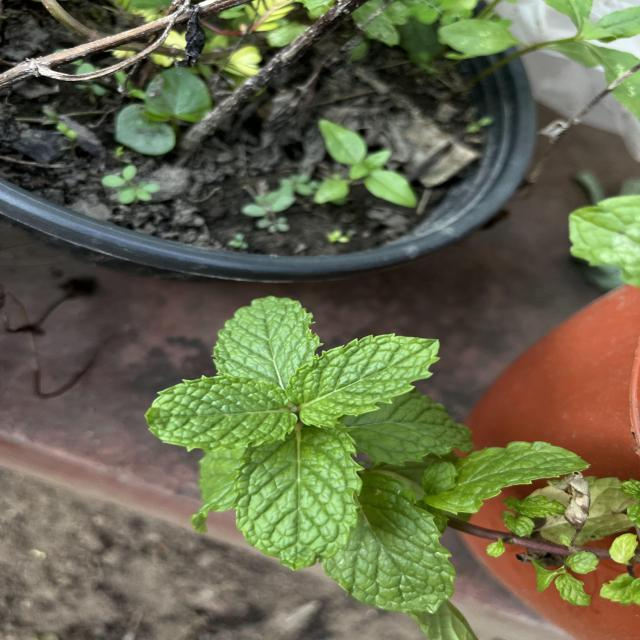Mentha spicata: (230, 426, 368, 572), (284, 332, 442, 430), (143, 372, 299, 454), (210, 294, 324, 378)
